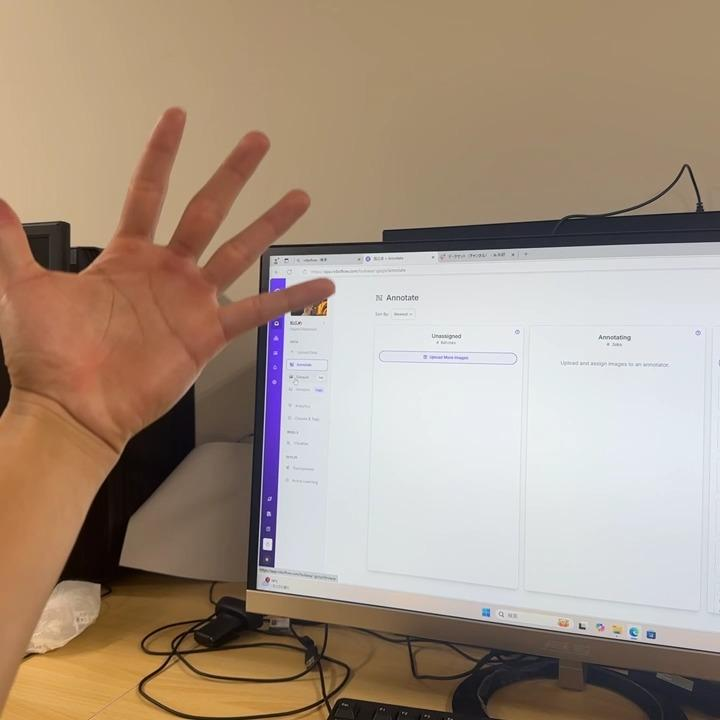without_gloves: (0, 91, 390, 460)
